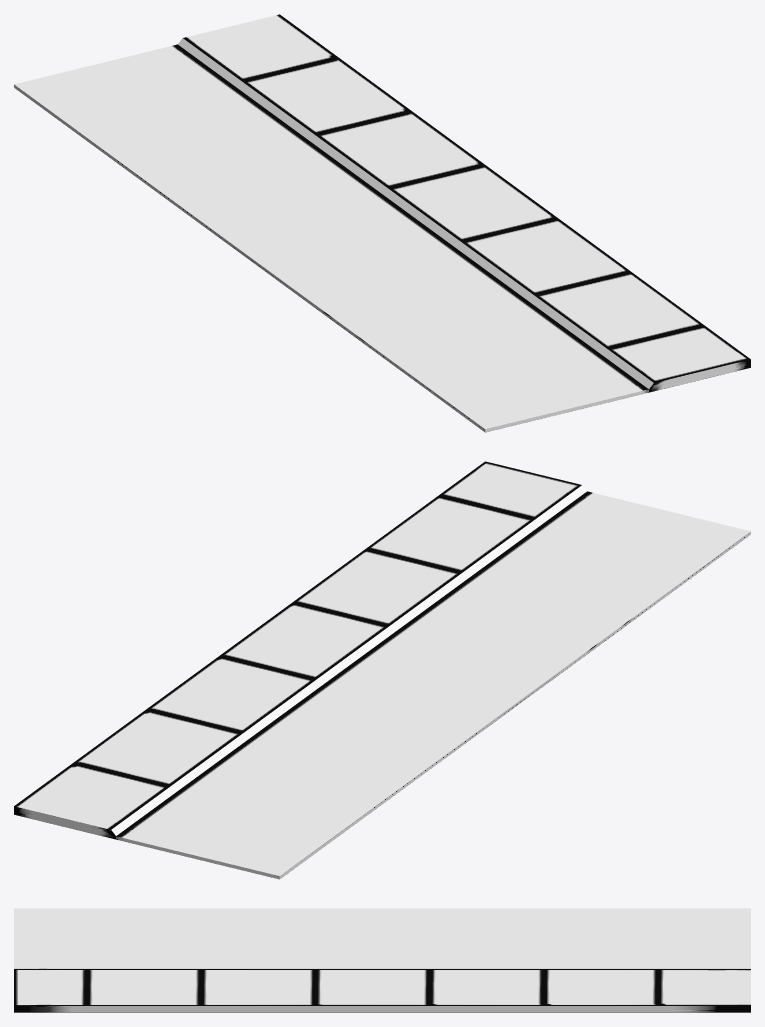
File: HalfGround.fbx
The picture shows the model from 3 angles, top to bottom: view 1: azimuth 30°, elevation 25°; view 2: azimuth 150°, elevation 25°; view 3: azimuth 270°, elevation 25°; orthographic projection. The views are drawn at different scales.
Parts seen in each view (by area): view 1: Cube; view 2: Cube; view 3: Cube.
Boxes of the visible parts, x1,y1,x2,y2 form: Cube: (14,14,750,432); Cube: (14,461,750,879); Cube: (14,908,750,1012).
Size of the model in its own units: 1303 by 39.6 by 4000.
